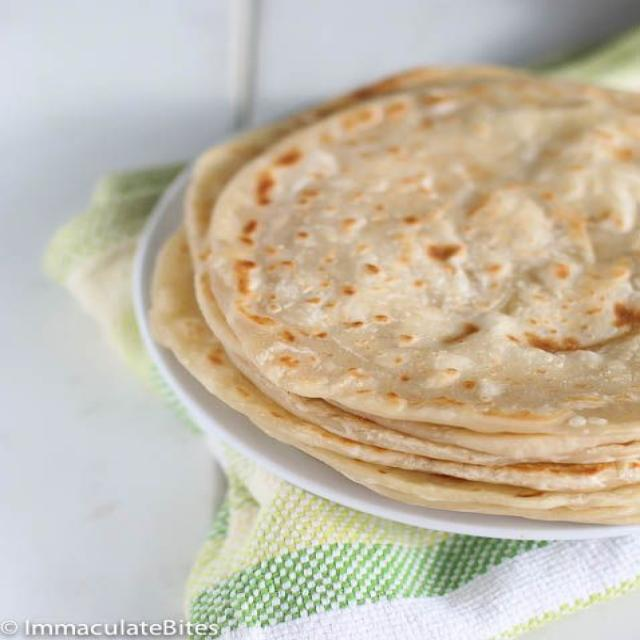roti: (154, 63, 640, 532)
